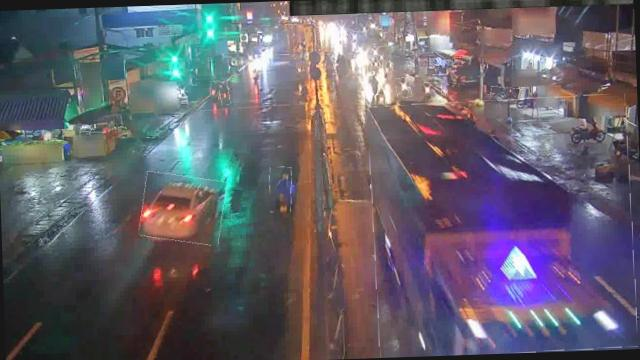Bike: (565, 119, 608, 146), (268, 166, 292, 212), (490, 86, 522, 105), (420, 82, 442, 100), (395, 78, 411, 98), (374, 88, 388, 108), (366, 76, 380, 96), (220, 82, 230, 106), (210, 81, 220, 102), (383, 62, 393, 79)
Car: (140, 173, 226, 246)
Truck: (368, 94, 637, 357)
